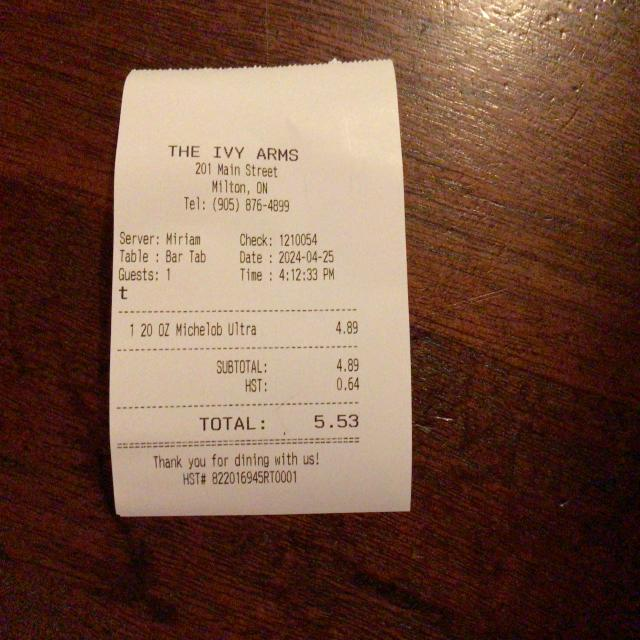item: (138, 312, 363, 344)
store_name: (163, 138, 304, 170)
total_amount: (195, 407, 365, 438)
transaction_date: (274, 247, 340, 270)
